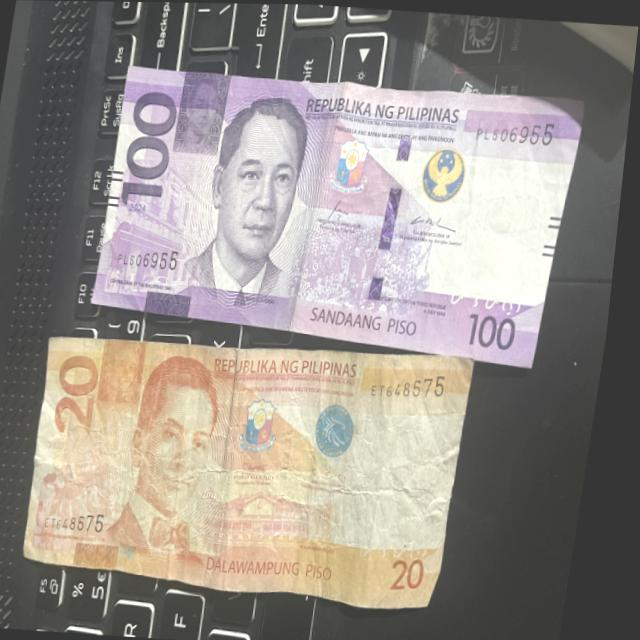concealed_value: (174, 74, 231, 159), (106, 333, 156, 407)
security_thread: (363, 94, 426, 337)
serial_number: (372, 358, 470, 407), (472, 107, 568, 151), (47, 498, 122, 535), (116, 239, 190, 275)
value: (118, 83, 187, 213), (54, 348, 113, 451)
value_watermark: (523, 231, 551, 290)
watermark: (347, 386, 454, 555), (452, 147, 554, 288)
